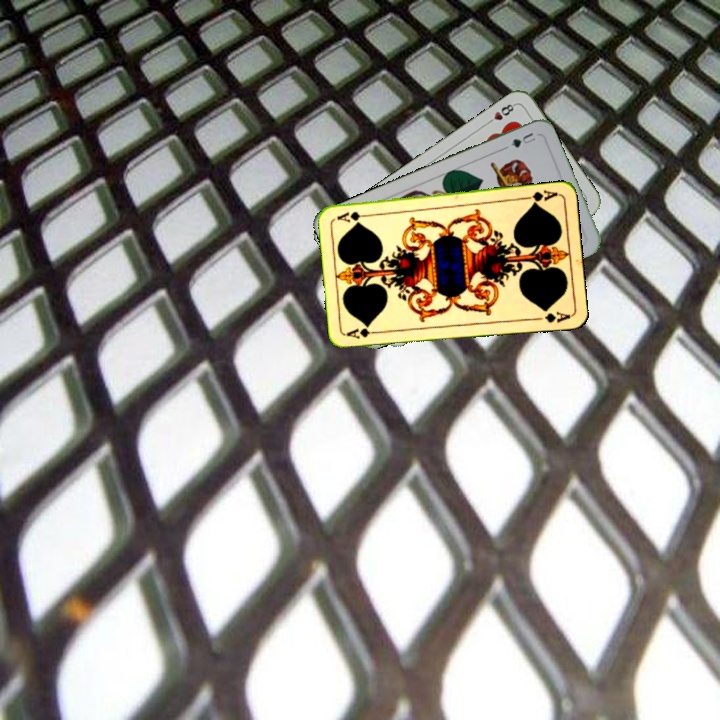GA: (520, 186, 560, 207), (343, 324, 383, 341)
GU: (501, 128, 538, 151)
H8: (482, 100, 518, 127)
